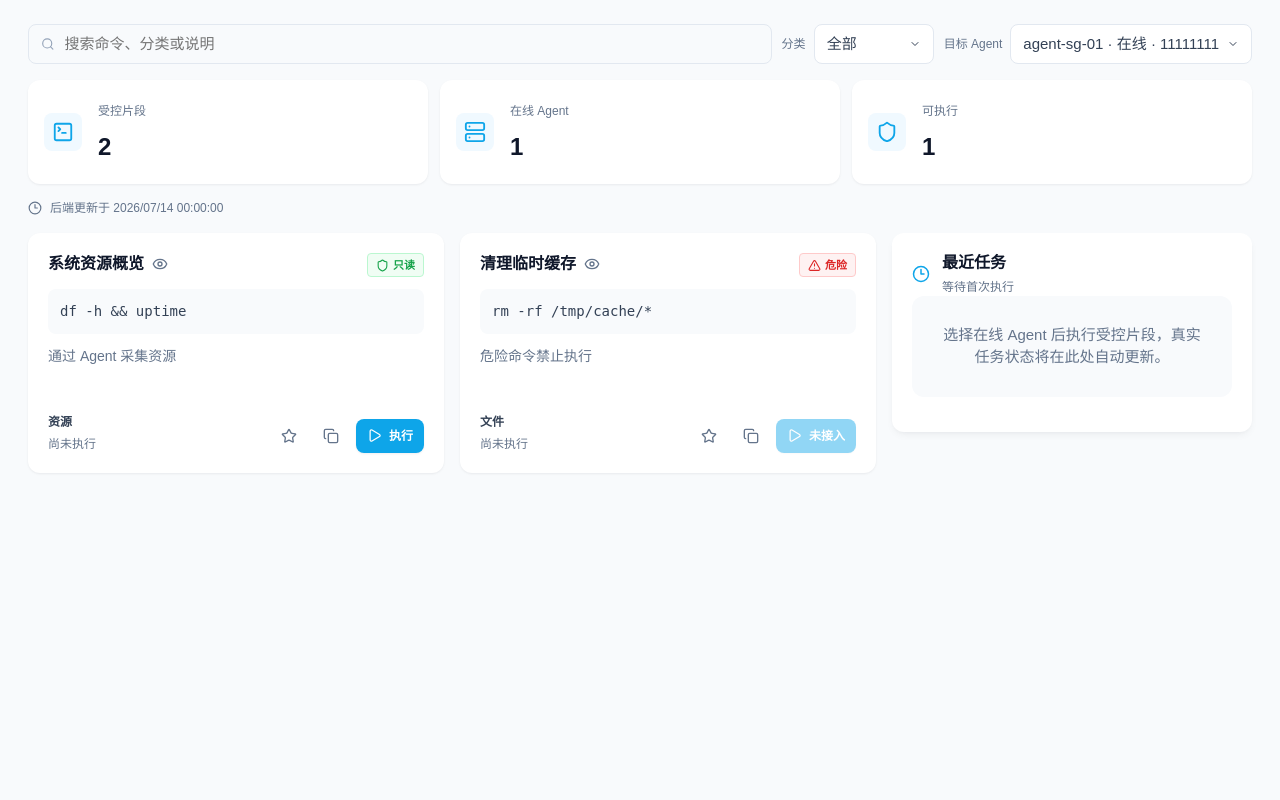
terminal snippets real backend page › keeps dangerous snippets inspectable but never executable
Expected: the button with aria-label "执行 清理临时缓存" is disabled, x1=776 y1=419 x2=856 y2=453
Click the button with aria-label "查看 清理临时缓存 详情": click(572, 311) x1=480 y1=289 x2=856 y2=334
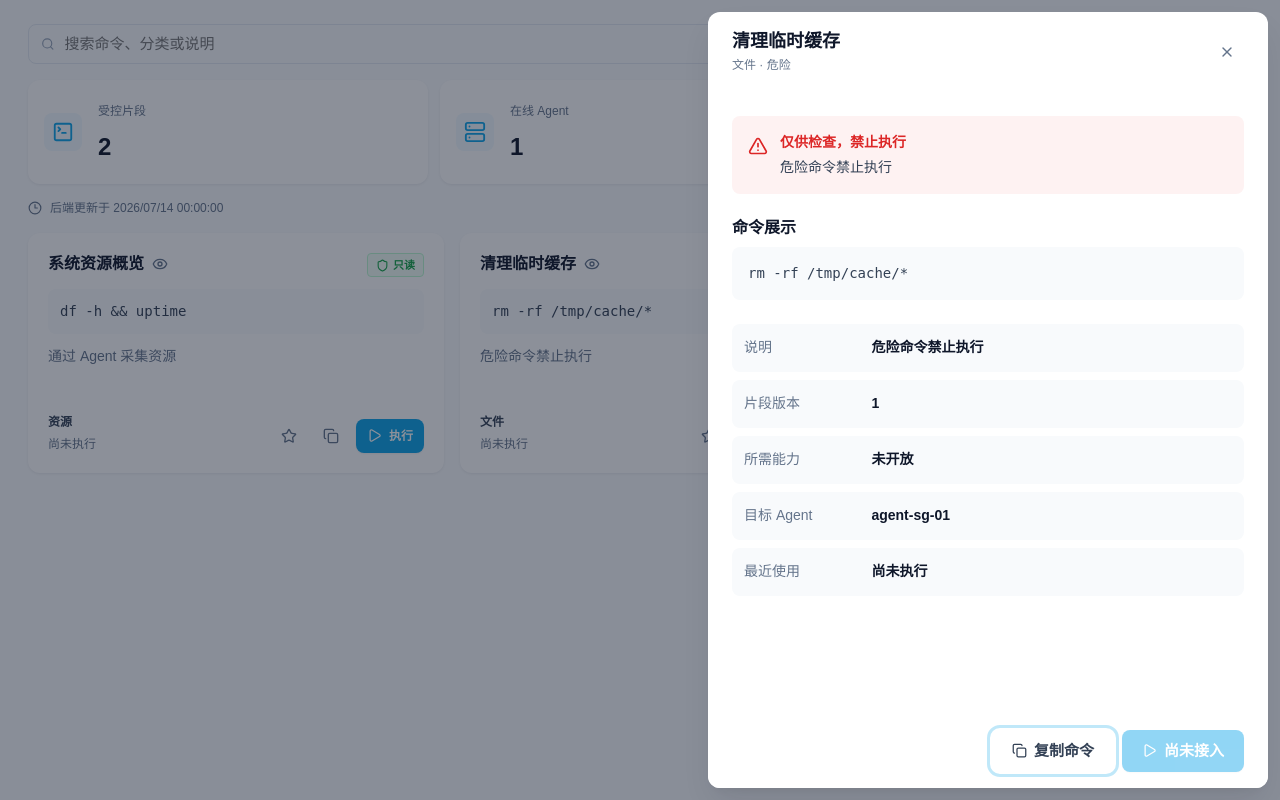
Expected: the text "仅供检查，禁止执行" is shown, x1=780 y1=134 x2=906 y2=150
Expected: the button "尚未接入" is disabled, x1=1122 y1=730 x2=1244 y2=772
